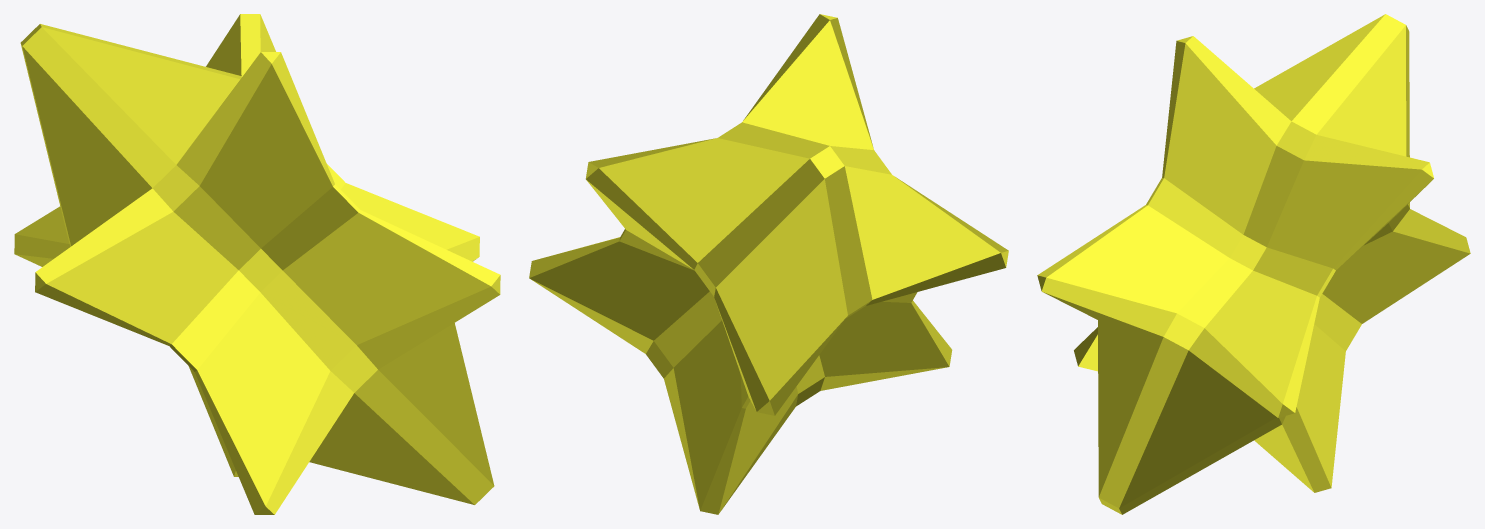
3 views of the same model, side by side, from view 1: azimuth 30°, elevation 25°; view 2: azimuth 150°, elevation 25°; view 3: azimuth 270°, elevation 25° (orthographic). The views are drawn at different scales.
Visible parts, largest first — view 1: Cube; view 2: Cube; view 3: Cube.
Part boxes in pixels (x1=…): Cube: x1=14, y1=14, x2=500, y2=514; Cube: x1=529, y1=14, x2=1008, y2=514; Cube: x1=1037, y1=14, x2=1470, y2=514.
Bounding box in the file's own units: 4.22 × 4.15 × 3.78.
